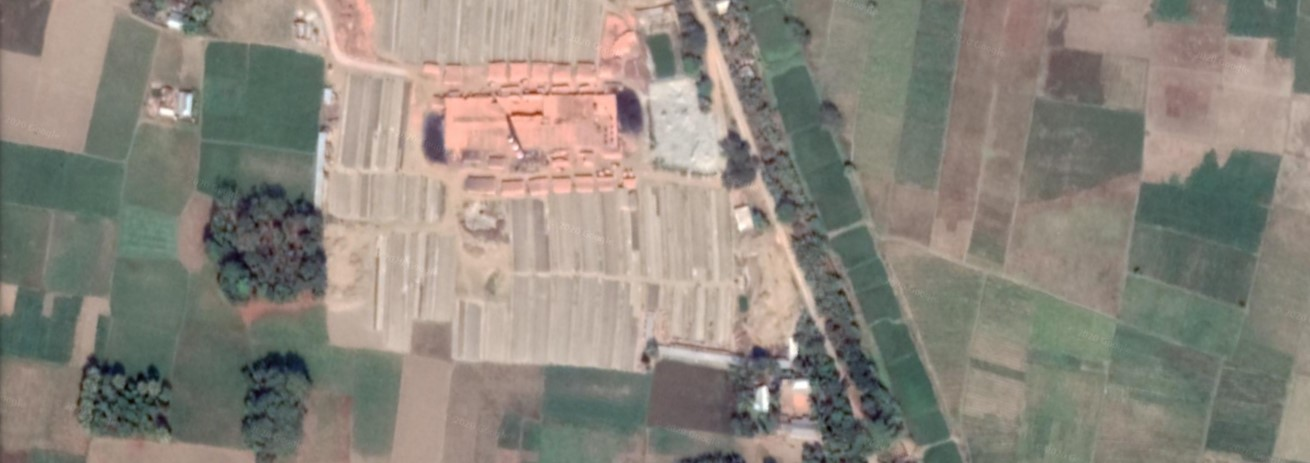kiln: (445, 90, 617, 188)
